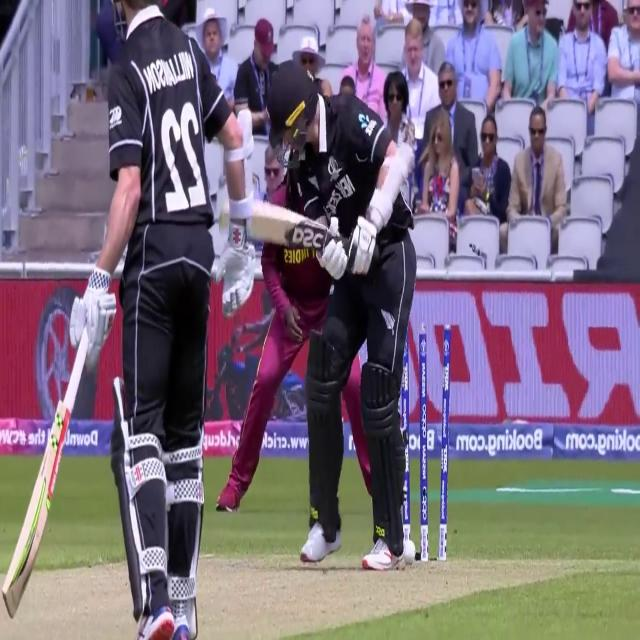ball: (398, 540, 420, 576)
